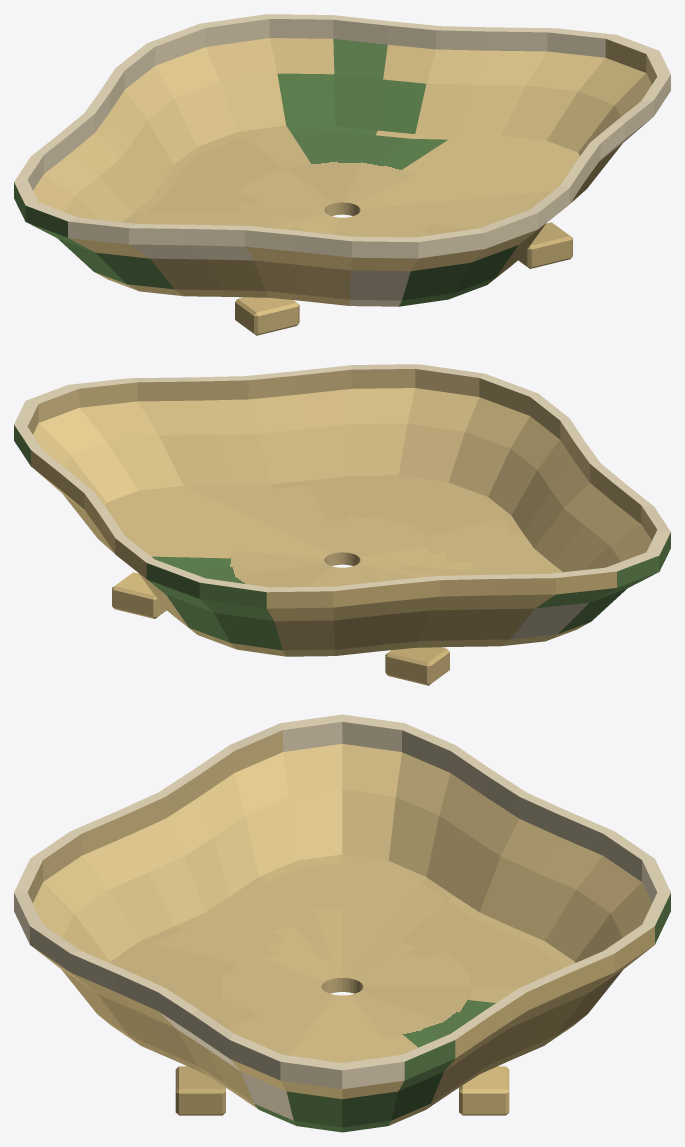
Rendered from vessel-kutani.glb.
The picture shows the model from 3 angles, top to bottom: view 1: azimuth 30°, elevation 25°; view 2: azimuth 150°, elevation 25°; view 3: azimuth 270°, elevation 25°; orthographic projection. The views are drawn at different scales.
Visible parts, largest first — view 1: vessel-kutani/complete-inner-outer-shell-with-drainage, vessel-kutani/short-solid-foot-1, vessel-kutani/short-solid-foot-2; view 2: vessel-kutani/complete-inner-outer-shell-with-drainage, vessel-kutani/short-solid-foot-4, vessel-kutani/short-solid-foot-3; view 3: vessel-kutani/complete-inner-outer-shell-with-drainage, vessel-kutani/short-solid-foot-2, vessel-kutani/short-solid-foot-3.
Boxes of the visible parts, bbox=[...] form: vessel-kutani/complete-inner-outer-shell-with-drainage: bbox=[14, 14, 670, 306]; vessel-kutani/short-solid-foot-1: bbox=[235, 297, 299, 335]; vessel-kutani/short-solid-foot-2: bbox=[518, 222, 572, 268]; vessel-kutani/complete-inner-outer-shell-with-drainage: bbox=[14, 364, 670, 656]; vessel-kutani/short-solid-foot-4: bbox=[385, 647, 449, 685]; vessel-kutani/short-solid-foot-3: bbox=[112, 572, 166, 618]; vessel-kutani/complete-inner-outer-shell-with-drainage: bbox=[14, 714, 670, 1132]; vessel-kutani/short-solid-foot-2: bbox=[175, 1066, 225, 1115]; vessel-kutani/short-solid-foot-3: bbox=[459, 1066, 509, 1115].
Size of the model in its own units: 0.4861 by 0.086 by 0.3792.
Materials: 1 (1 with a texture image).
